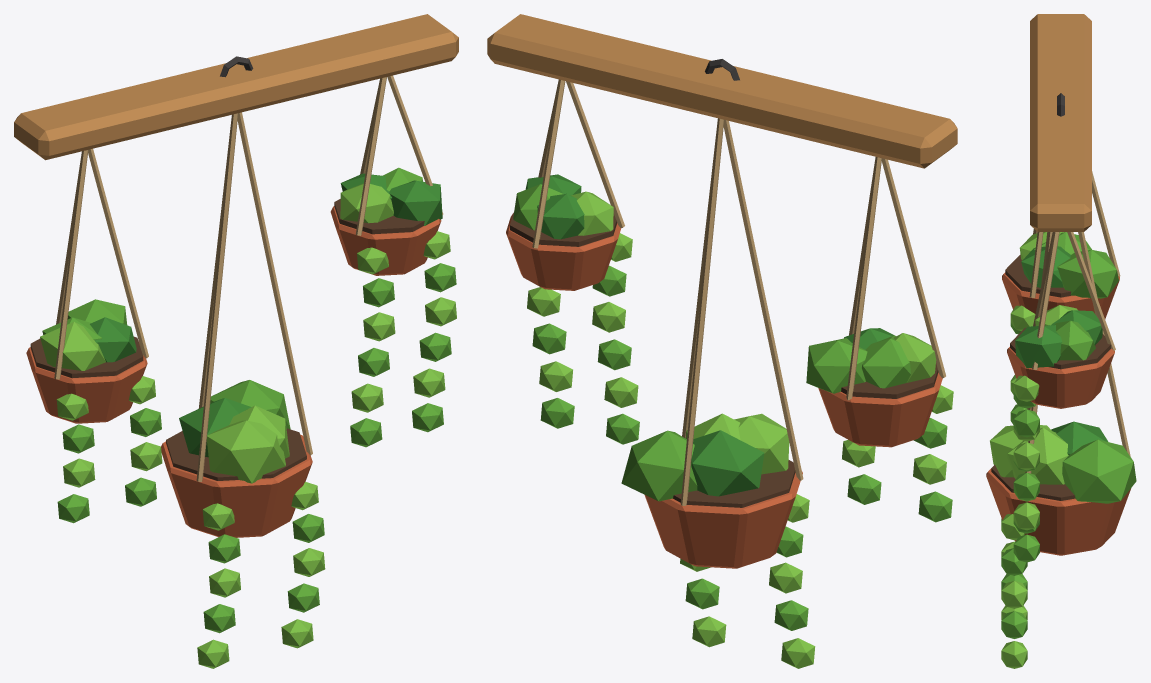
The model's file is hanging_planter_cluster.glb.
The picture shows the model from 3 angles, left to right: view 1: azimuth 30°, elevation 25°; view 2: azimuth 150°, elevation 25°; view 3: azimuth 270°, elevation 25°; orthographic projection. The views are drawn at different scales.
Visible parts, largest first — view 1: part_planter_1, hanging_planter_cluster, part_planter_2, part_planter_0; view 2: part_planter_1, hanging_planter_cluster, part_planter_0, part_planter_2; view 3: part_planter_1, hanging_planter_cluster, part_planter_2, part_planter_0.
Boxes of the visible parts, <box> form: part_planter_1: <box>161,112,325,668</box>; hanging_planter_cluster: <box>14,14,458,160</box>; part_planter_2: <box>330,75,456,447</box>; part_planter_0: <box>26,148,162,523</box>; part_planter_1: <box>621,118,815,668</box>; hanging_planter_cluster: <box>487,14,957,168</box>; part_planter_0: <box>806,157,953,522</box>; part_planter_2: <box>506,79,639,444</box>; part_planter_1: <box>986,232,1136,668</box>; hanging_planter_cluster: <box>1030,14,1091,231</box>; part_planter_2: <box>1007,232,1115,562</box>; part_planter_0: <box>1002,171,1120,424</box>.
Bounding box in the file's own units: 0.9 × 1.19 × 0.2908.
